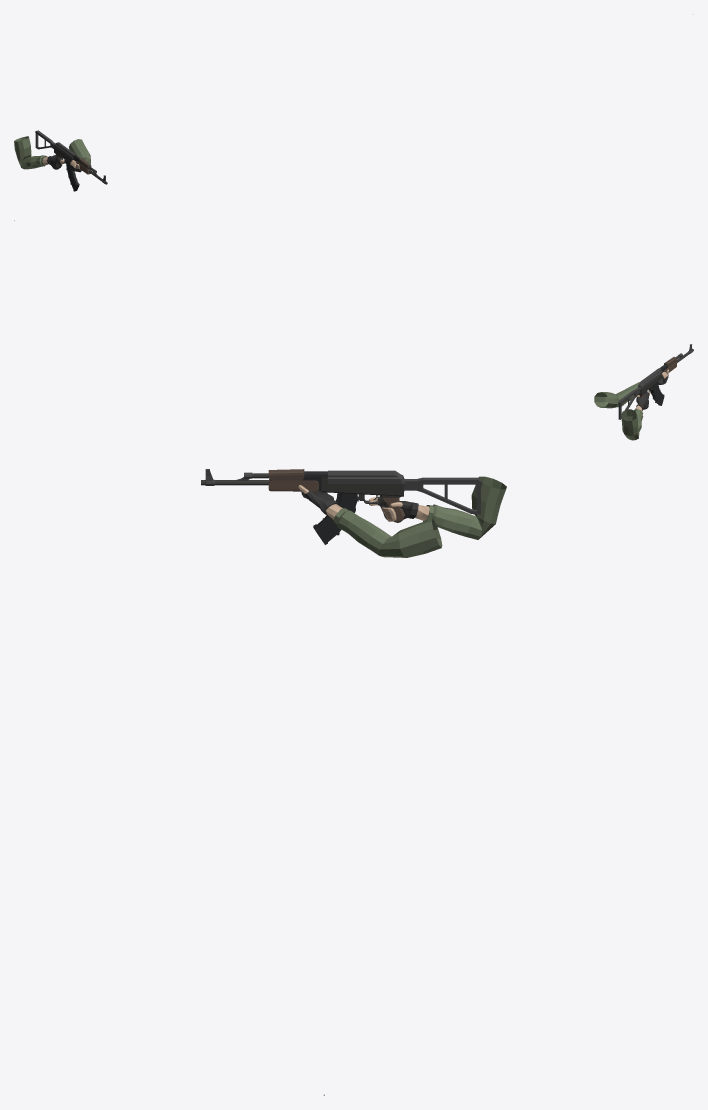
File: fps01.glb
3 views of the same model, one above another, from view 1: azimuth 30°, elevation 25°; view 2: azimuth 150°, elevation 25°; view 3: azimuth 270°, elevation 25° (orthographic). The views are drawn at different scales.
Parts seen in each view (by area): view 1: ArmModel, AssaultRifle_4; view 2: ArmModel, AssaultRifle_4; view 3: ArmModel, AssaultRifle_4.
Boxes of the visible parts, x1,y1,x2,y2 form: ArmModel: (14, 136, 90, 172); AssaultRifle_4: (35, 130, 107, 191); ArmModel: (594, 369, 669, 440); AssaultRifle_4: (618, 344, 693, 419); ArmModel: (298, 476, 506, 557); AssaultRifle_4: (201, 469, 480, 544).
Bounding box in the file's own units: 1.03 × 0.0621 × 0.2153.
